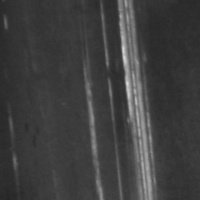scratches: (110, 0, 162, 198), (80, 65, 107, 200)
